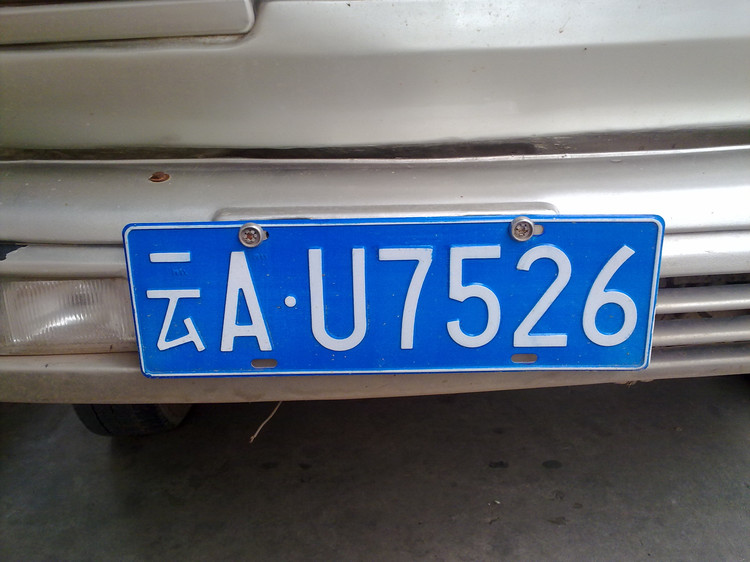plate_number: (117, 210, 669, 380)
